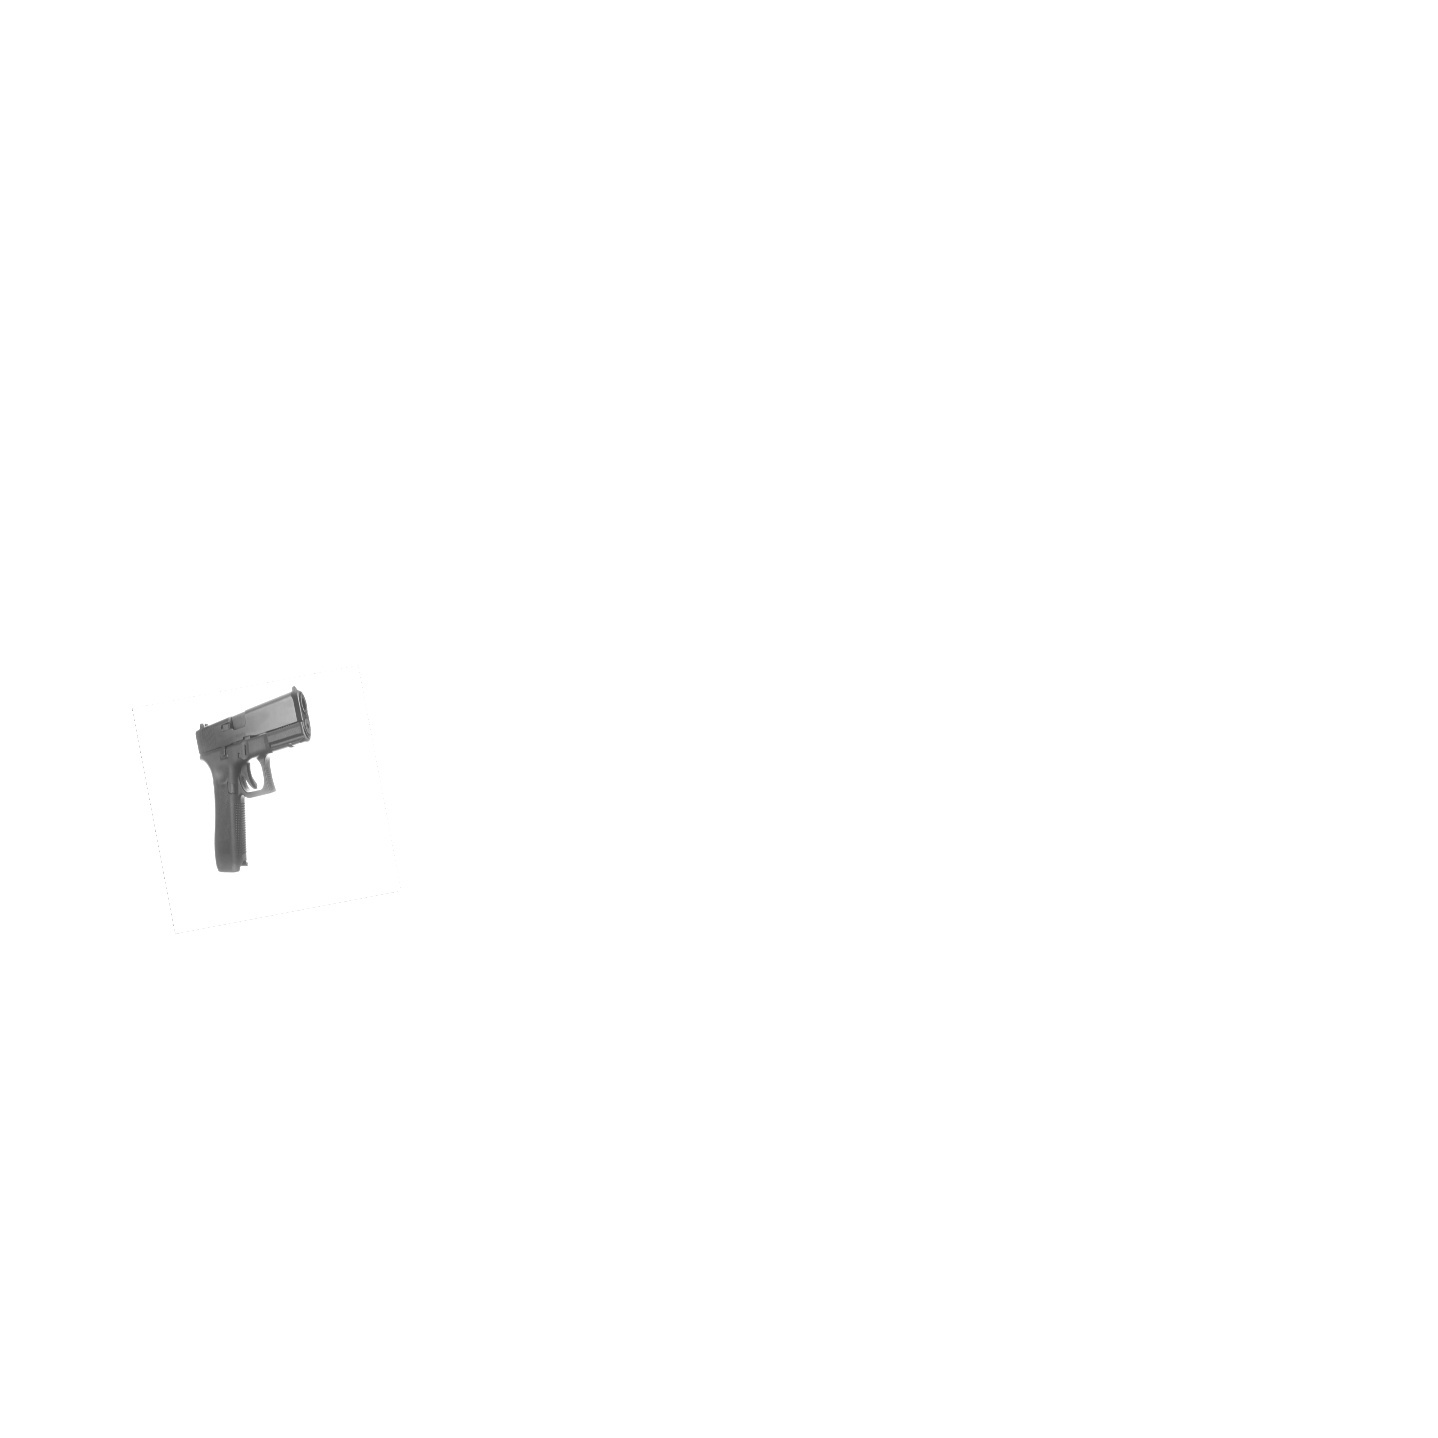gun: (190, 679, 316, 880)
